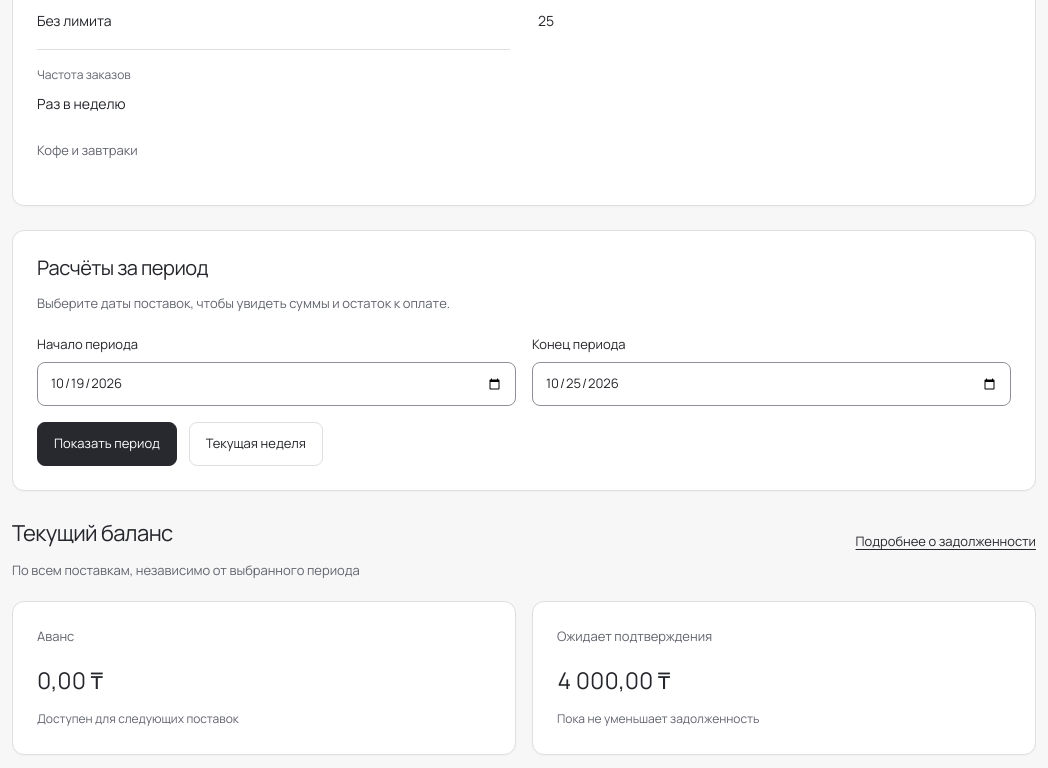
Scenario: language changes in account forms › preserves draft profile dates and customer identity when switching the interface language
(page scrolled)
Type "2026-09-01" into the date field labelled "Начало периода" at {"x": 276, "y": 384}, box left=37, top=362, right=516, bottom=406
(page scrolled)
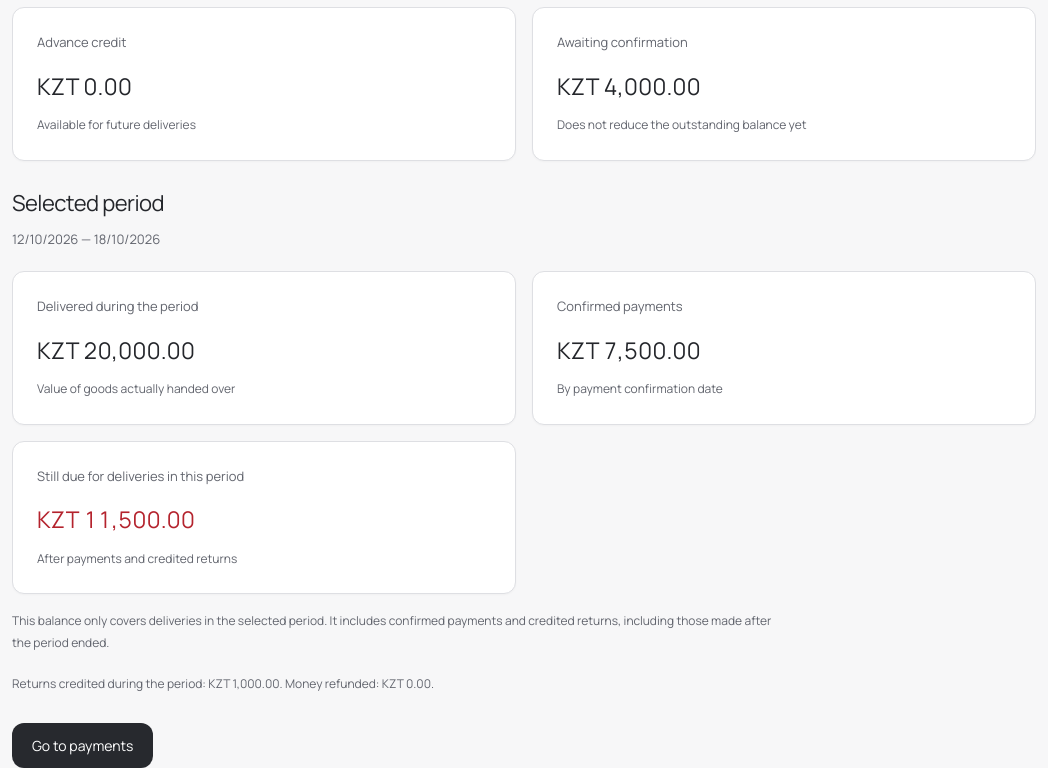
Expected: the text with class "debt-value" shows "11,500", left=37, top=503, right=195, bottom=535
